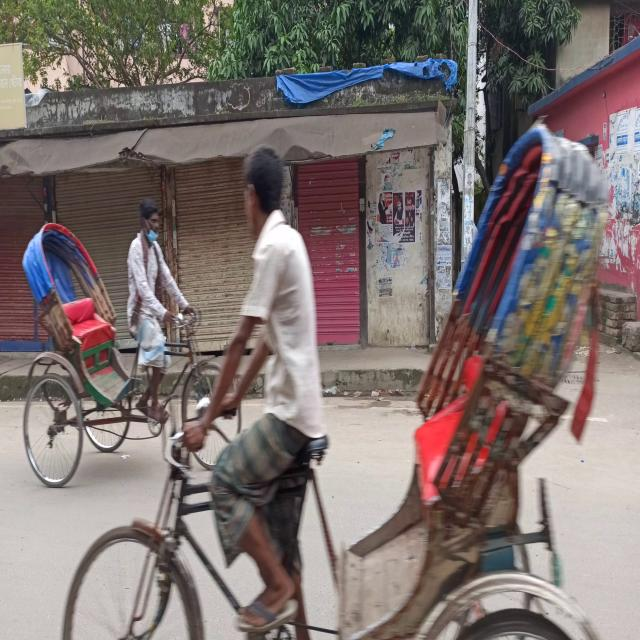rickshaw: (59, 156, 606, 639), (22, 206, 216, 444)
